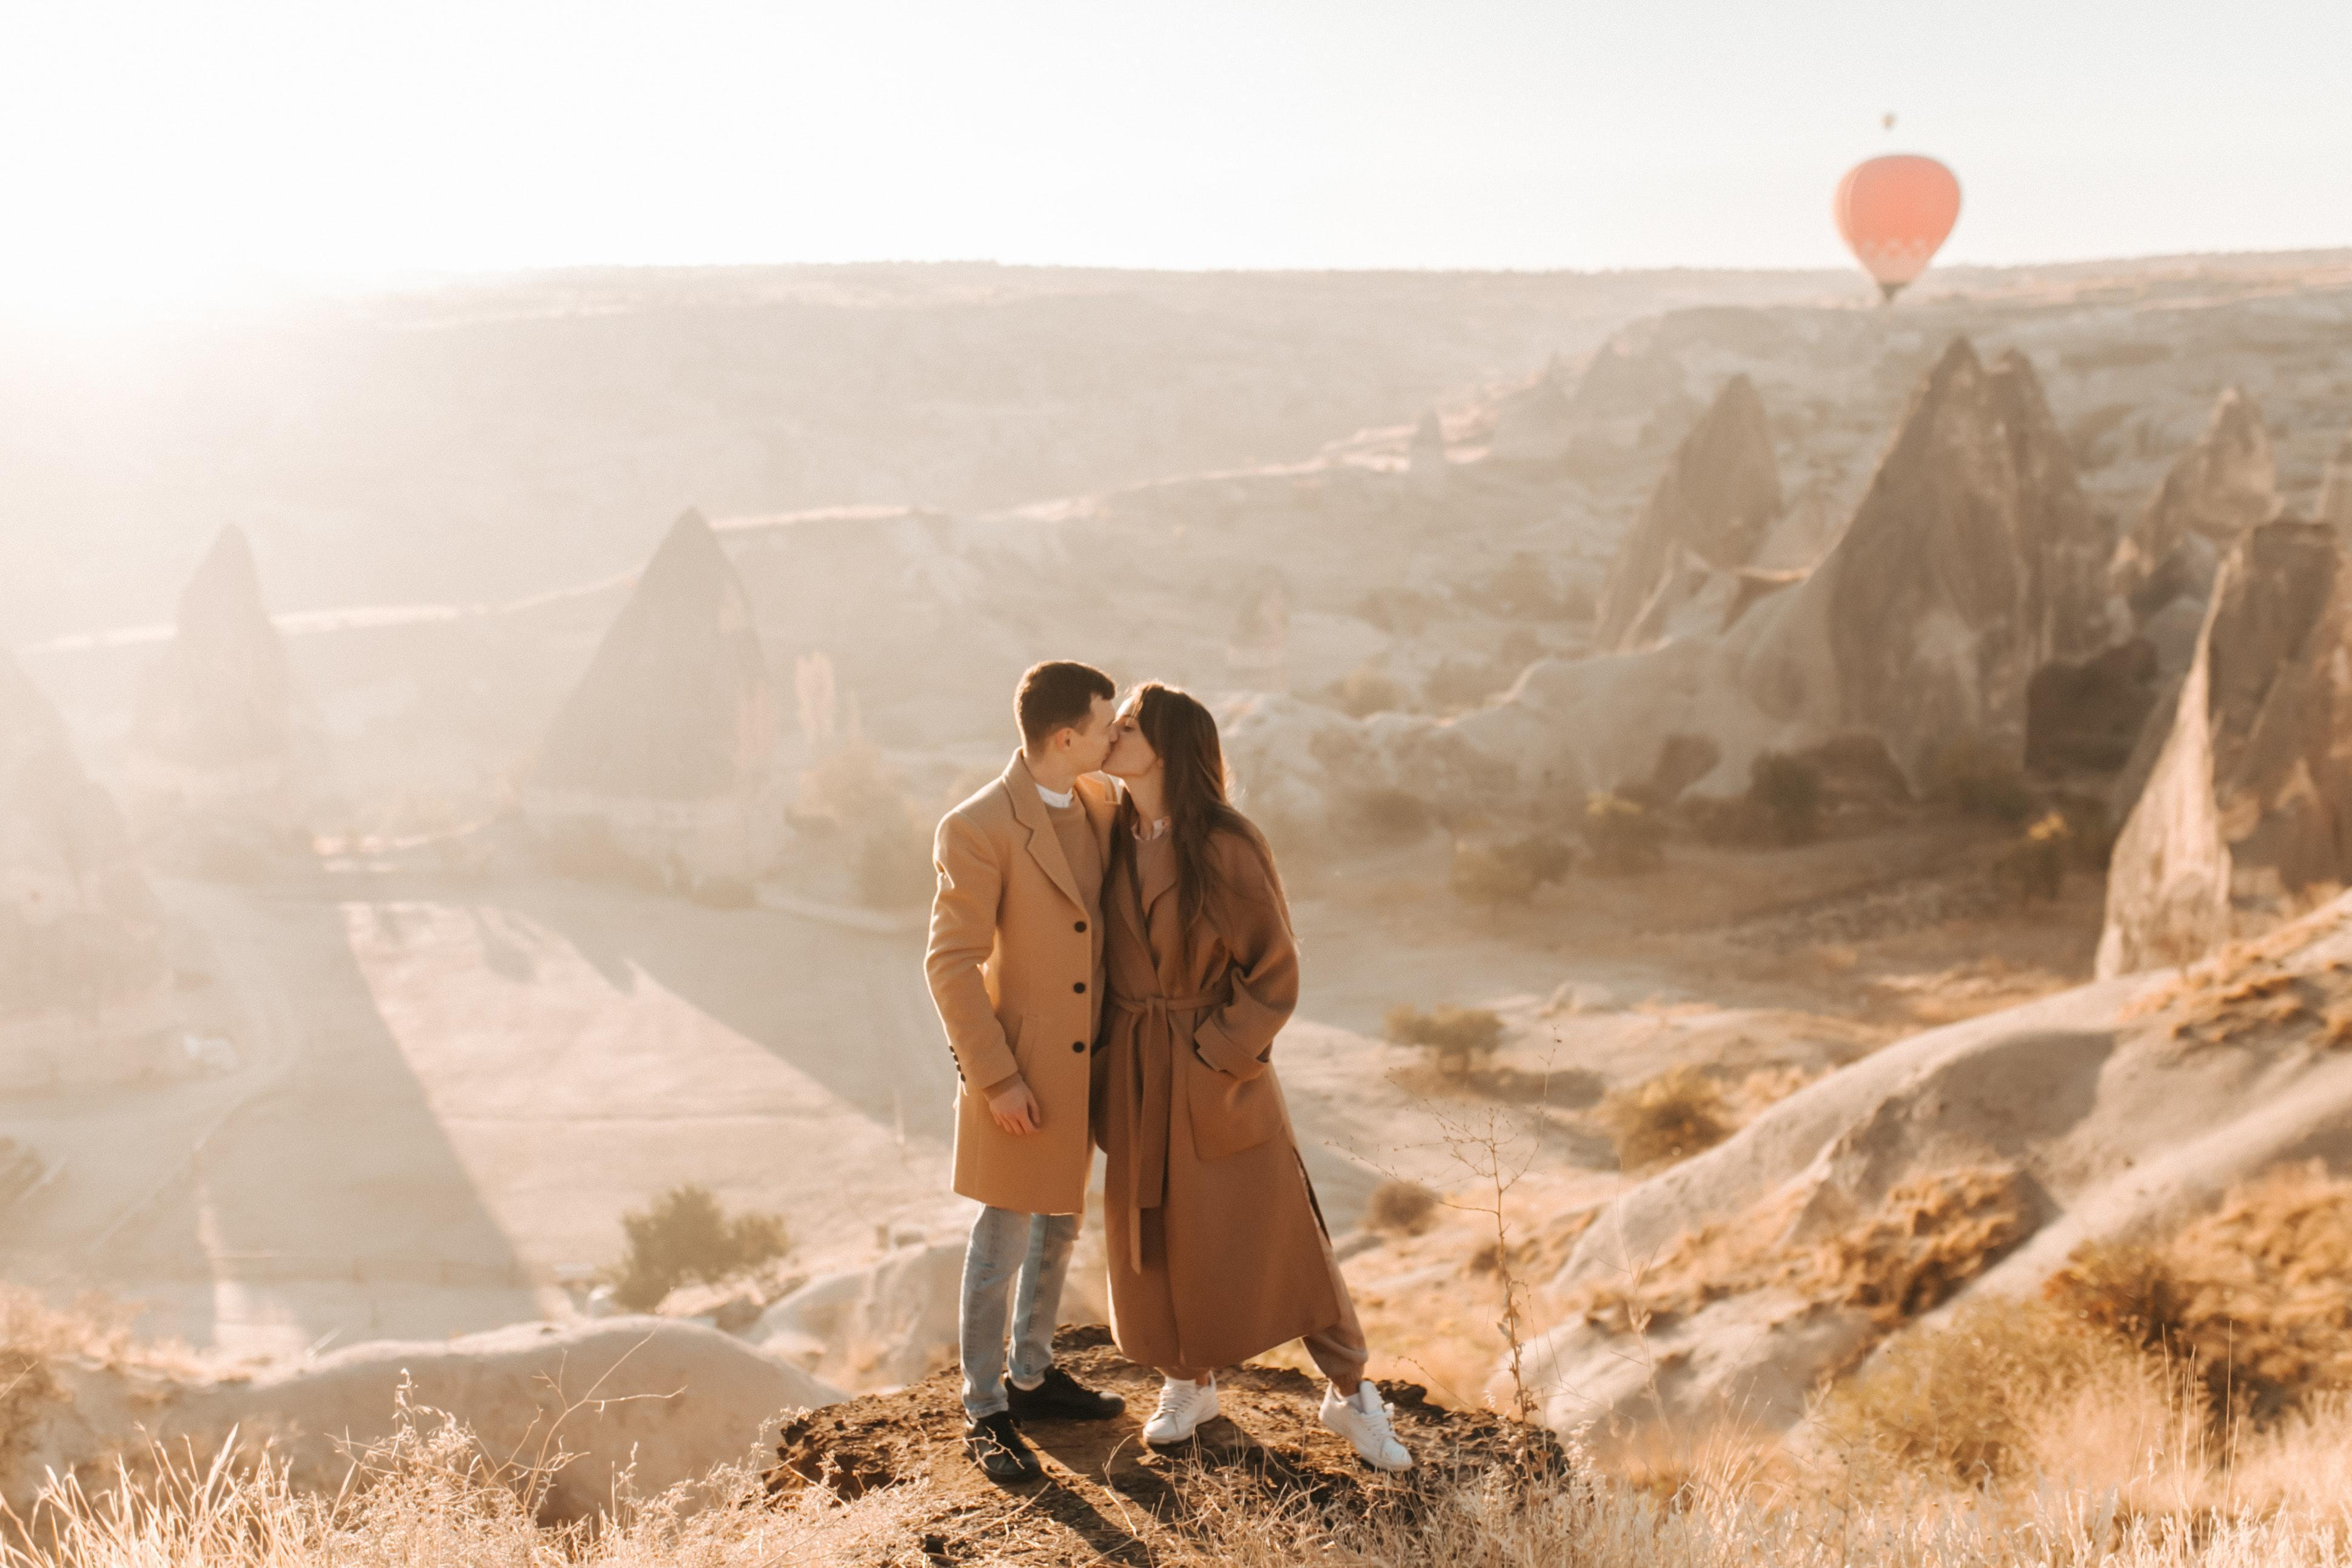hot air ballon: (1834, 154, 1962, 308)
